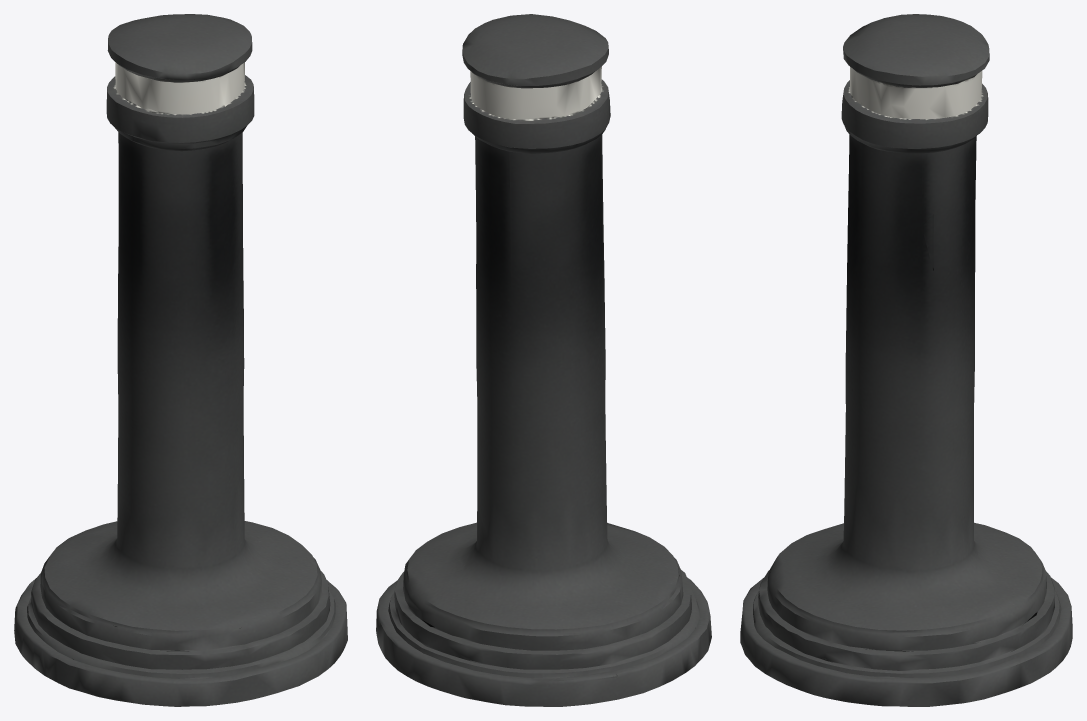
Rendered from colu.glb.
3 views of the same model, side by side, from view 1: azimuth 30°, elevation 25°; view 2: azimuth 150°, elevation 25°; view 3: azimuth 270°, elevation 25° (orthographic).
Parts seen in each view (by area): view 1: colu; view 2: colu; view 3: colu.
Part boxes in pixels (left/top/right/bottom): colu: left=14, top=14, right=347, bottom=706; colu: left=376, top=14, right=711, bottom=706; colu: left=740, top=14, right=1072, bottom=706.
Size of the model in its own units: 0.7195 by 1.43 by 0.7178.
1 material, 1 textured.
